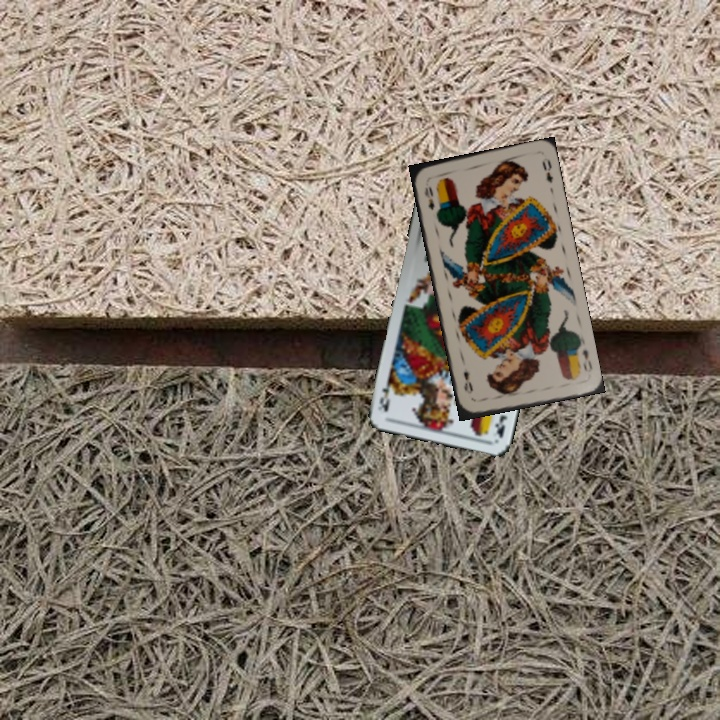EK: (491, 411, 510, 440)
EO: (420, 182, 437, 212), (578, 345, 595, 375)
